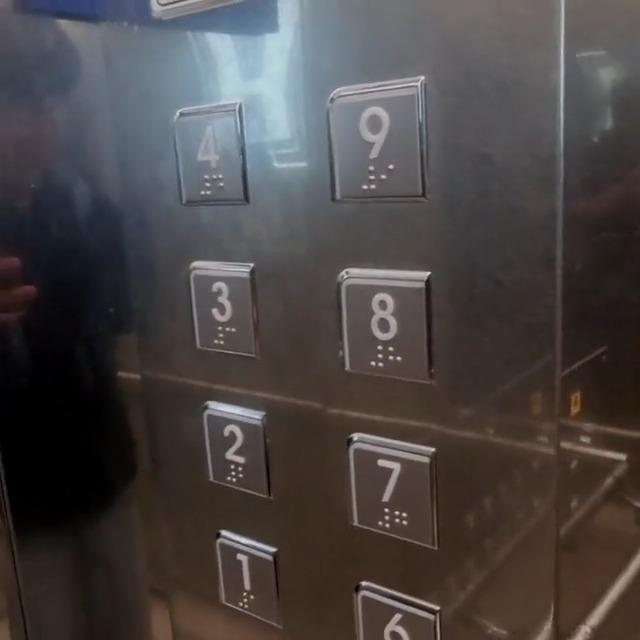button: (316, 92, 450, 218), (332, 270, 449, 392), (347, 428, 442, 555), (189, 267, 263, 367), (172, 113, 257, 200), (213, 532, 284, 632), (198, 408, 273, 500)
